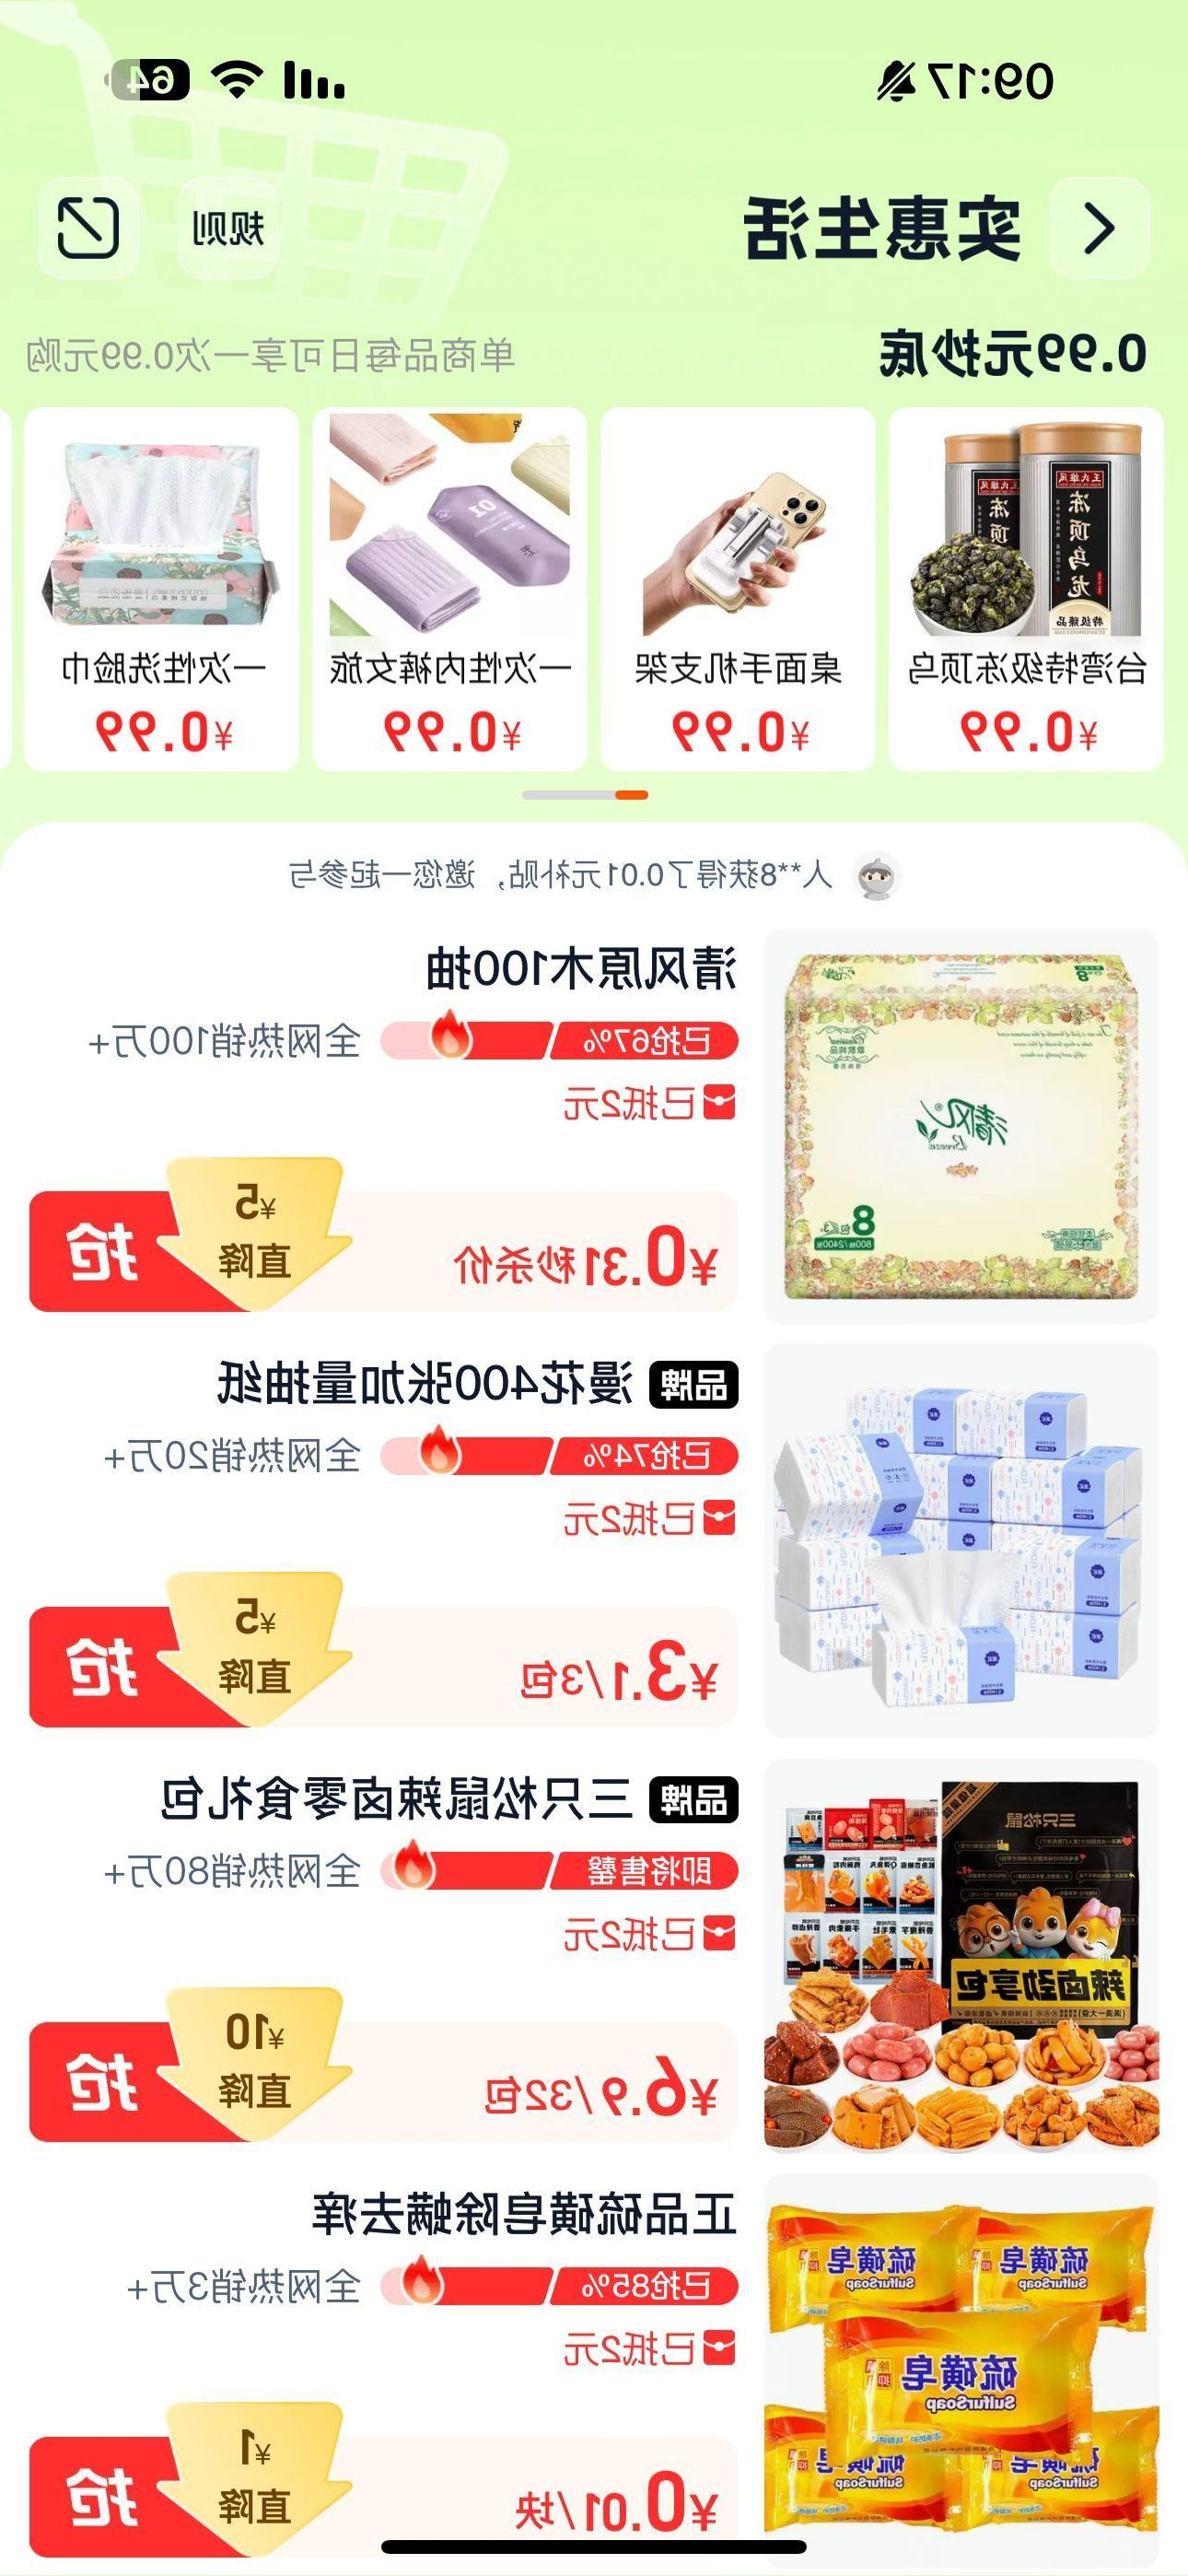item: (13, 899, 1188, 1337), (13, 1349, 1181, 1761), (16, 1768, 1178, 2178), (2, 2183, 1178, 2551)
op_bar: (12, 172, 1188, 307)
seckill: (12, 376, 1183, 785)
